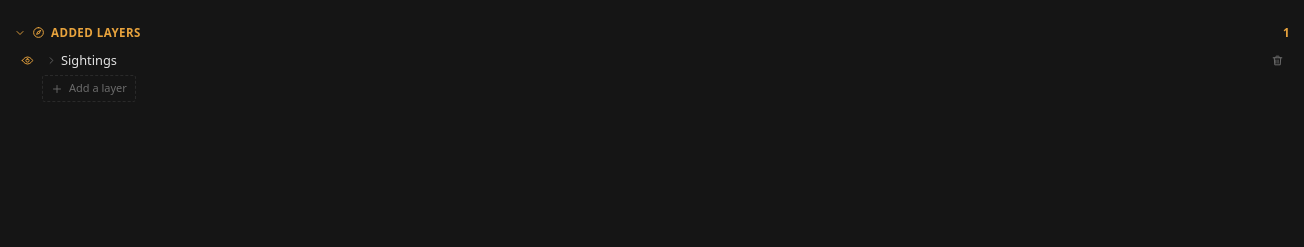
Scenario: finding a pin › says when nothing matches
Click the button with class "fold": point(89, 60) 46,49 -> 1262,72
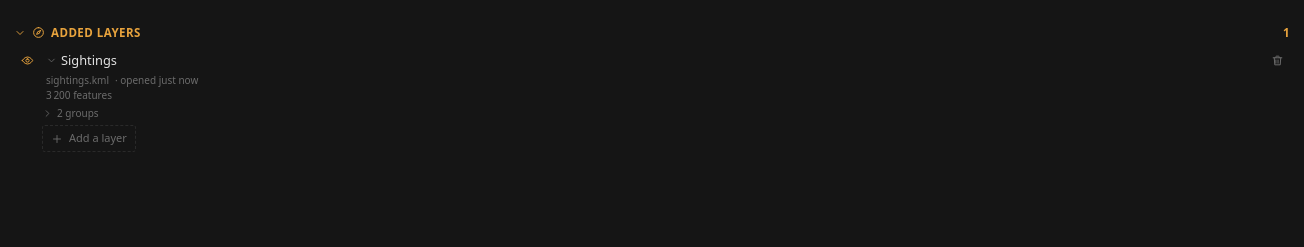
Click the button with class "legend-head": point(57, 113) 16,103 -> 99,123
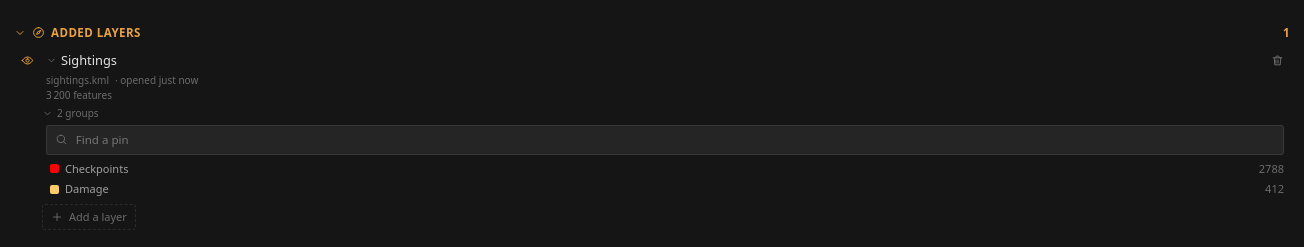
In the field with placeholder "Find a pin": point(674, 140) 74,130 -> 1275,150, type "gate"
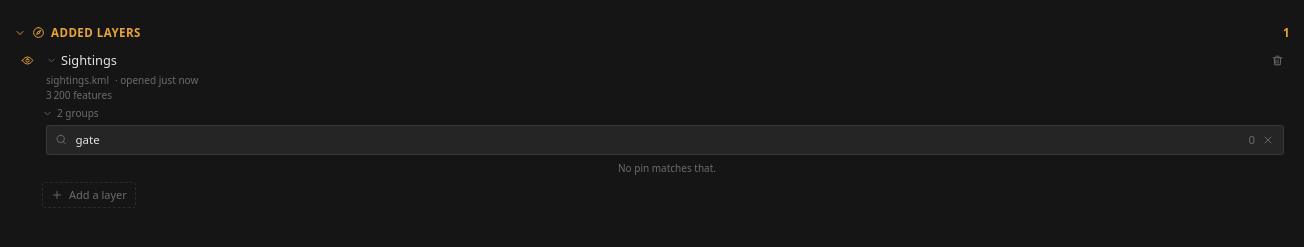
Expected: the text "No pin matches that." is shown, 618,160 -> 716,174
